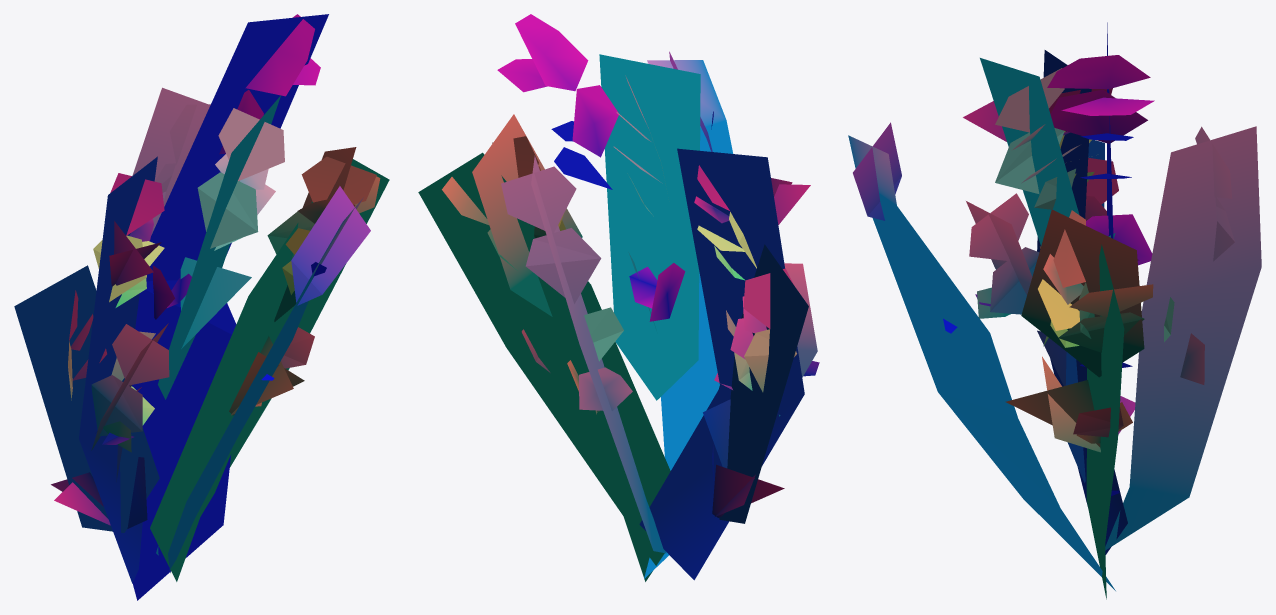
Rendered from Nordic_Coastal_Groundcover_vlqkdeaja_Mid_vlqkdeaja_VarJ_LOD0.fbx.
The picture shows the model from 3 angles, left to right: view 1: azimuth 30°, elevation 25°; view 2: azimuth 150°, elevation 25°; view 3: azimuth 270°, elevation 25°; orthographic projection. The views are drawn at different scales.
Visible parts, largest first — view 1: _gkeu_VarJ_LOD1; view 2: _gkeu_VarJ_LOD1; view 3: _gkeu_VarJ_LOD1.
Part boxes in pixels (x1=…): _gkeu_VarJ_LOD1: x1=14, y1=14, x2=389, y2=600; _gkeu_VarJ_LOD1: x1=418, y1=14, x2=819, y2=581; _gkeu_VarJ_LOD1: x1=848, y1=22, x2=1261, y2=599.
Bounding box in the file's own units: 21.5 × 29.53 × 17.36.
